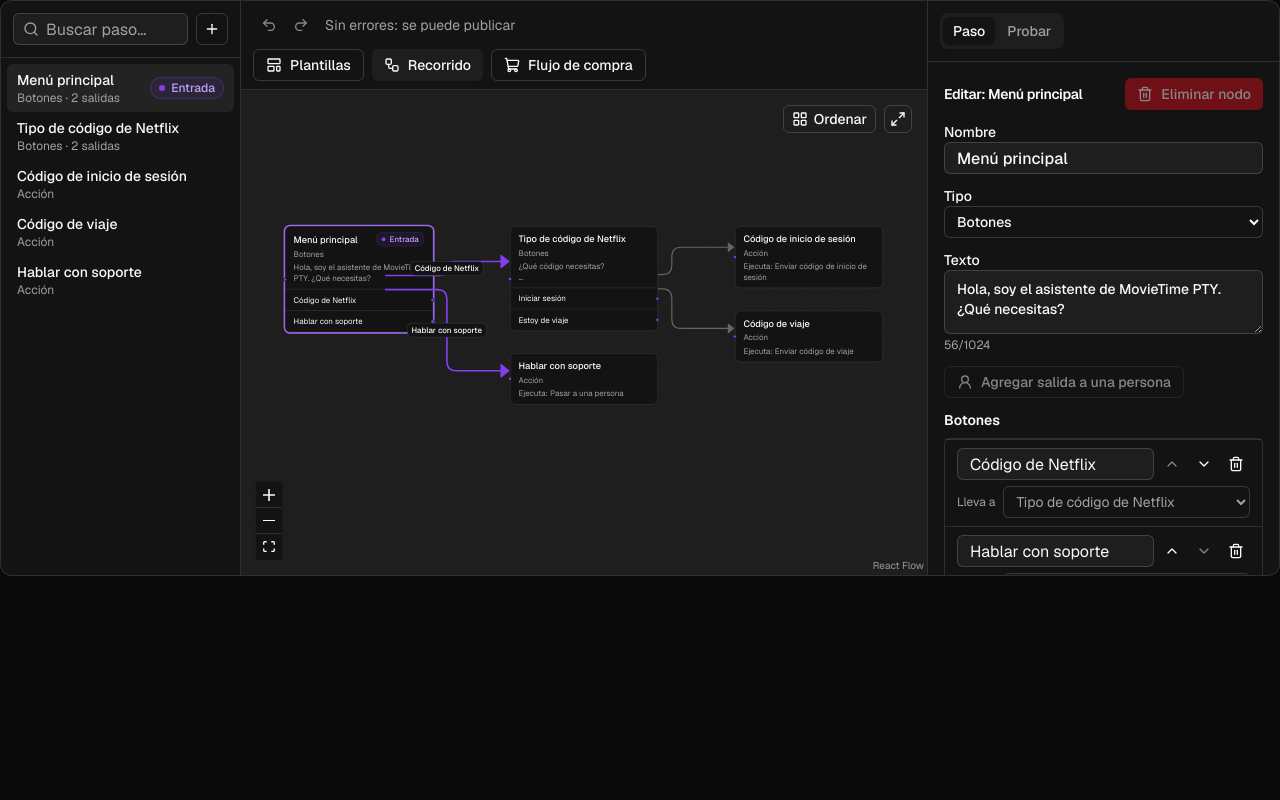
estudio del recorrido en pantallas anchas › prueba el recorrido en el inspector sin salir del lienzo
Step 1. Click the tab "Probar" → (1029, 31), box x1=997 y1=17 x2=1061 y2=45
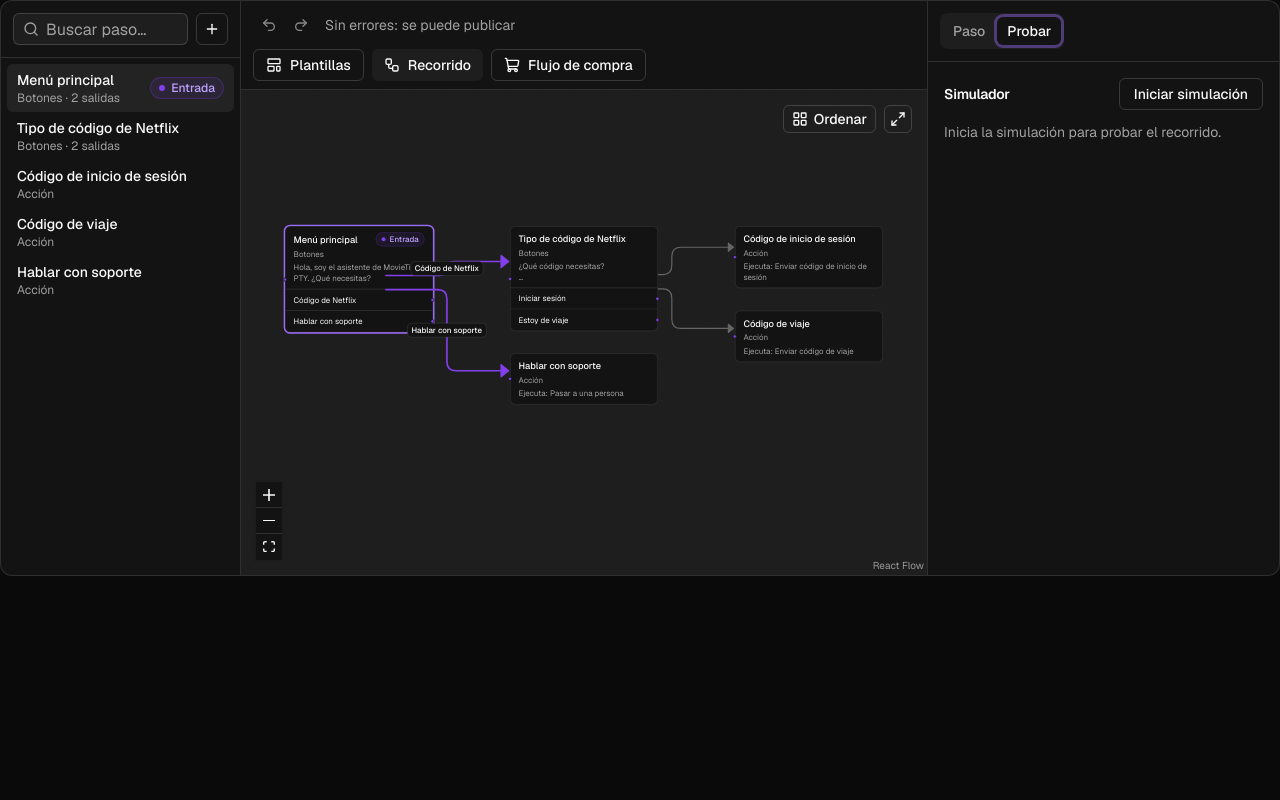
Step 2. Click the button "Iniciar simulación" → (1191, 94), box x1=1119 y1=78 x2=1263 y2=110
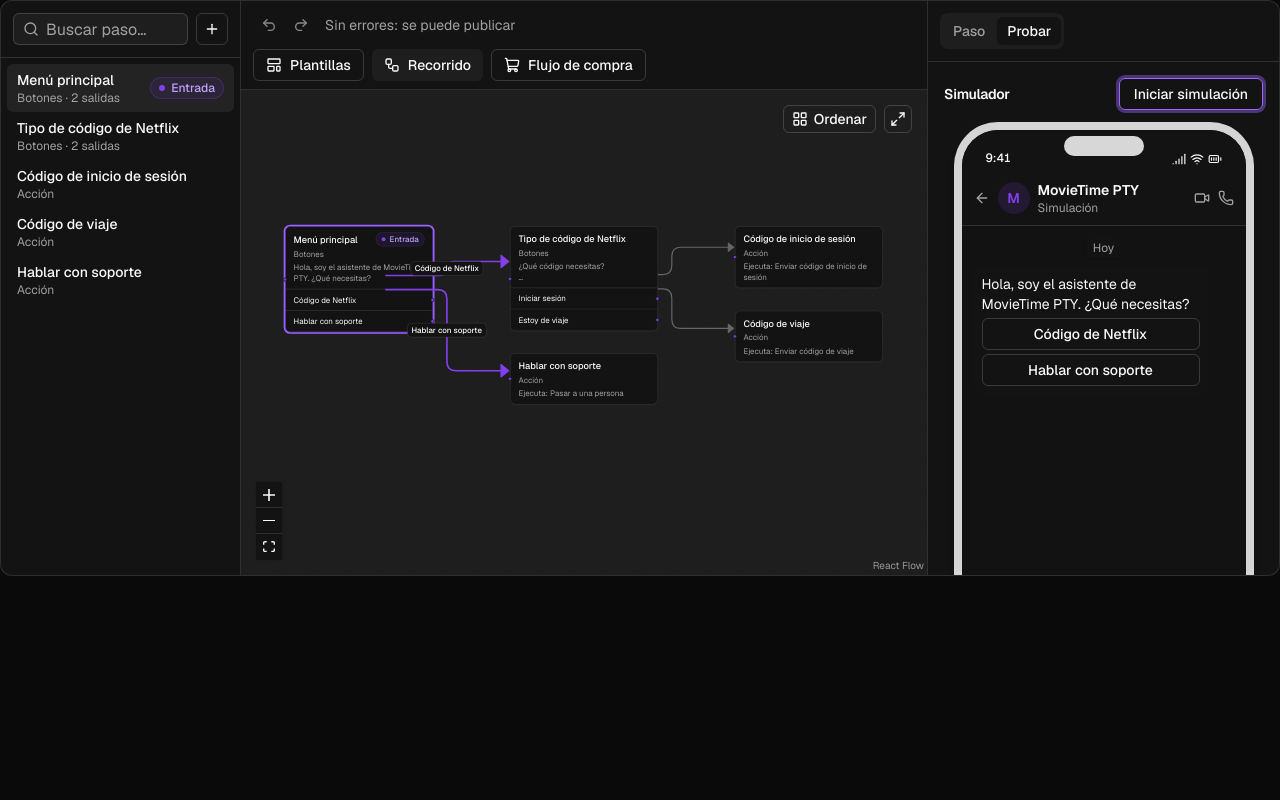
Expected: the element named "Lienzo del recorrido" is shown, x1=241 y1=90 x2=927 y2=575
Result: the element named "Simulación del celular del cliente" is shown at x1=954 y1=122 x2=1254 y2=575
